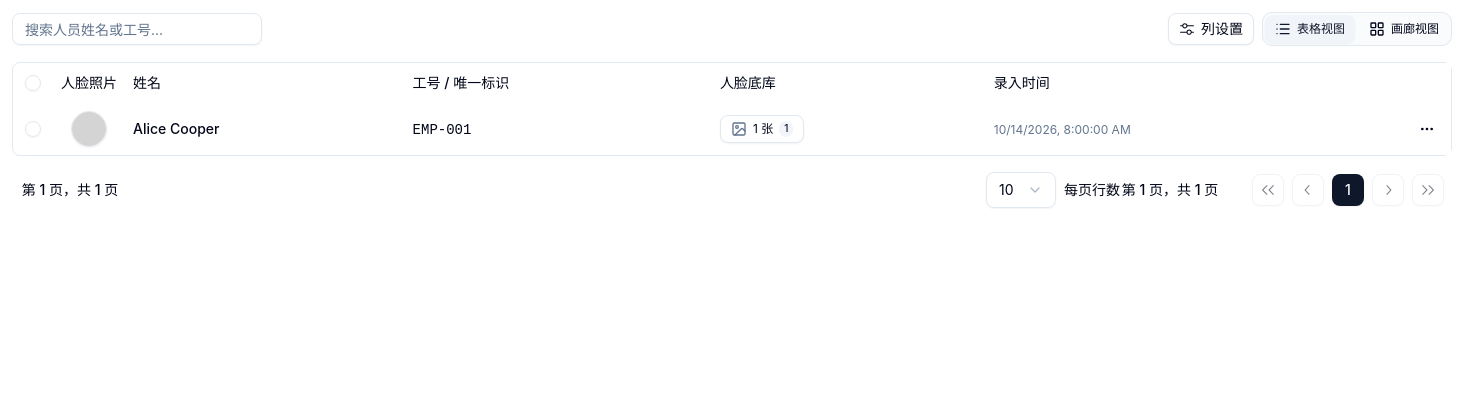
Scenario: PersonsTable › switches between table and grid views when clicking view toggle
Expected: the table is shown, [13,63,1451,155]
//  切换到画廊视图
Click the button "画廊视图" at (1404, 29), box [1359,15,1449,43]
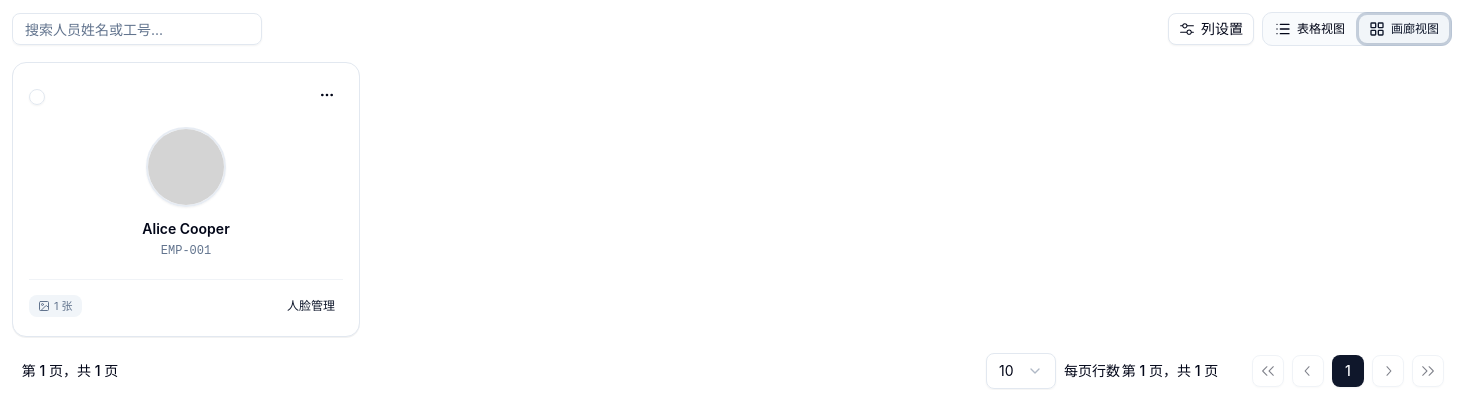
Now the element with test id "person-card" is shown, box [12,62,360,337]
